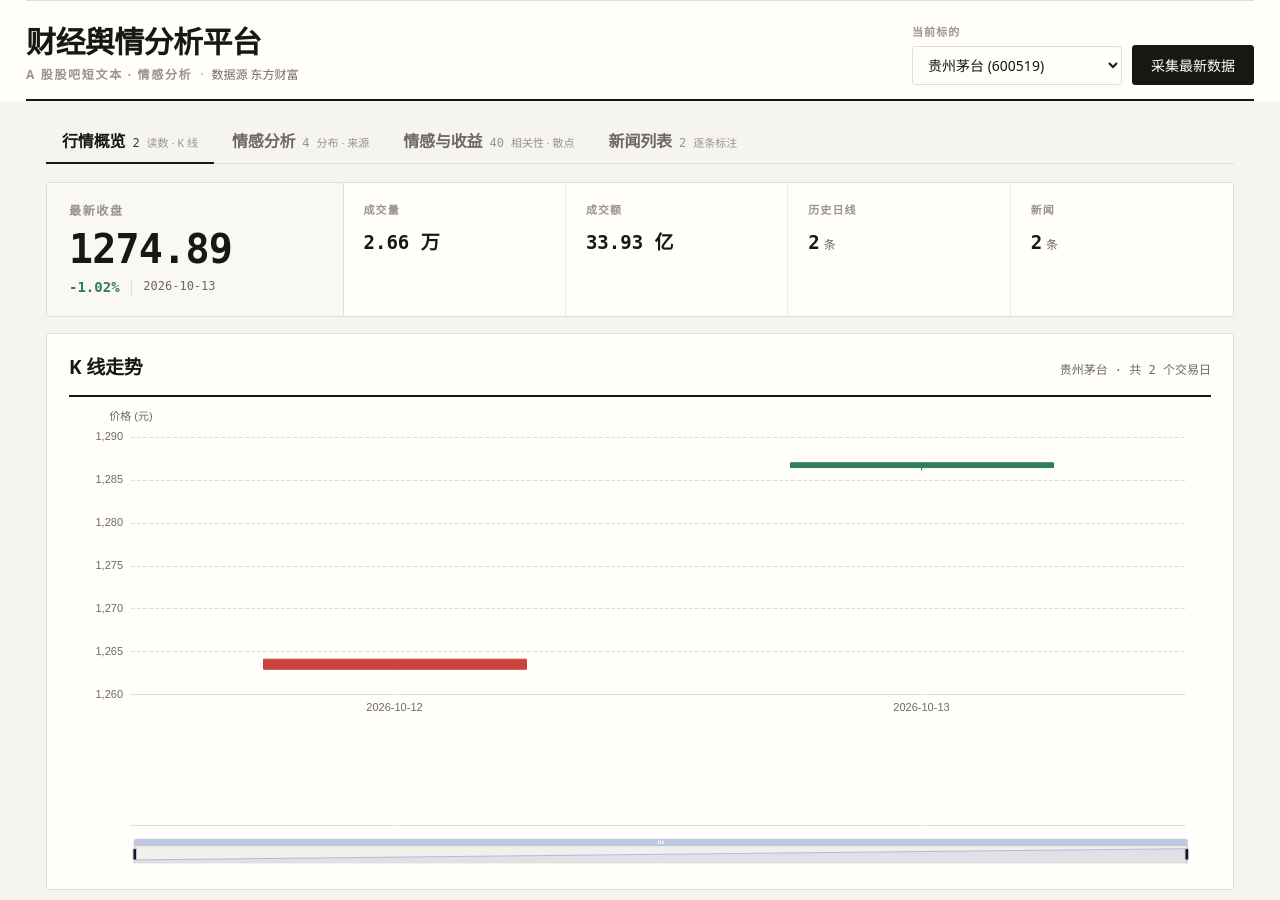
情感与收益面板 › 展示相关系数与样本量
What coordinates should you click on to do the following:
click the tab "情感与收益 40 相关性 · 散点"
I would click on:
 (489, 141)
Its box is [387,119,590,163].
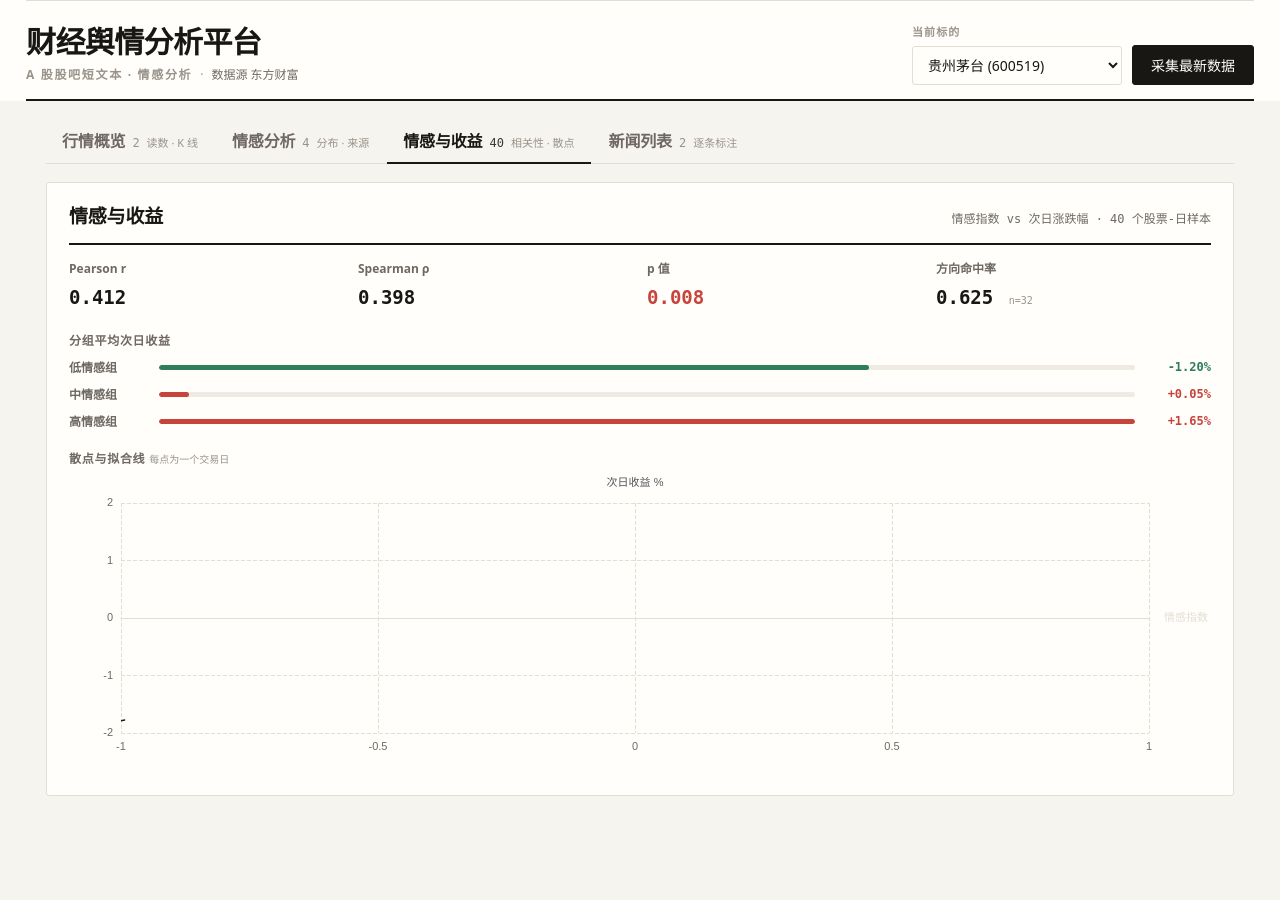
Expected: the text "0.412" is shown, [69,286,126,308]
Expected: the text "0.398" is shown, [358,286,415,308]
Expected: the text "40 个股票-日样本" is shown, [952,212,1211,226]
